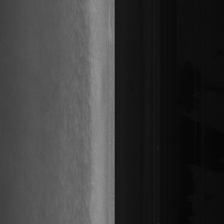silk_spot: (75, 32, 99, 152)
